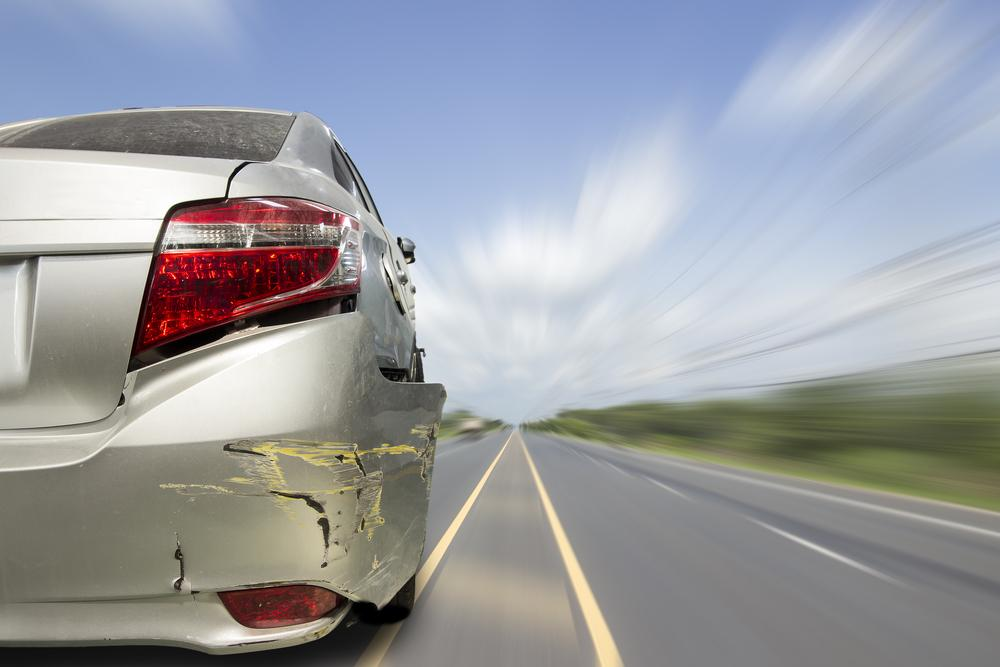crack: (170, 531, 185, 591)
scratch: (152, 420, 441, 573)
